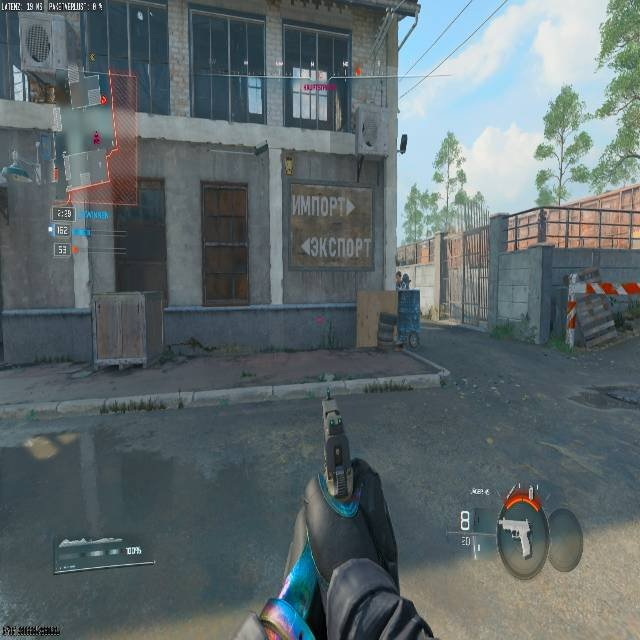player: (395, 270, 410, 290)
